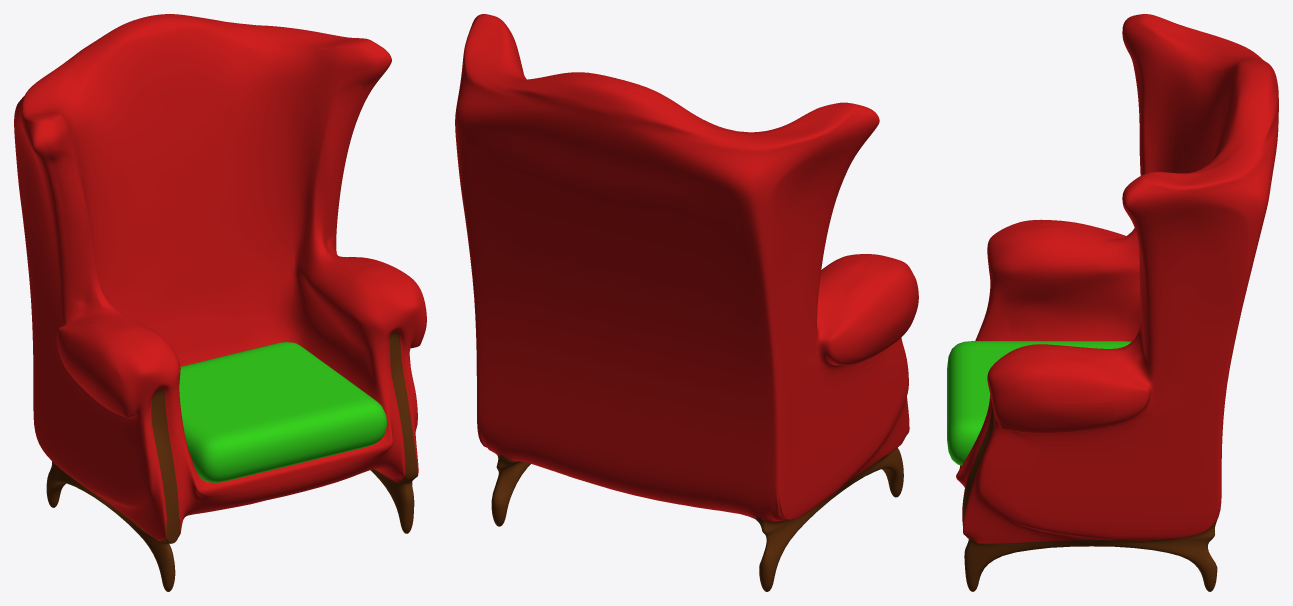
File: chair.fbx
3 views of the same model, side by side, from view 1: azimuth 30°, elevation 25°; view 2: azimuth 150°, elevation 25°; view 3: azimuth 270°, elevation 25° (orthographic). The views are drawn at different scales.
Visible parts, largest first — view 1: chair, cushion; view 2: chair; view 3: chair, cushion.
Part boxes in pixels (x1,y1,x2,y2): chair: (14, 14, 426, 591); cushion: (179, 342, 387, 482); chair: (455, 14, 918, 591); chair: (956, 14, 1278, 591); cushion: (947, 341, 1131, 465).
Size of the model in its own units: 147 by 174 by 115.
